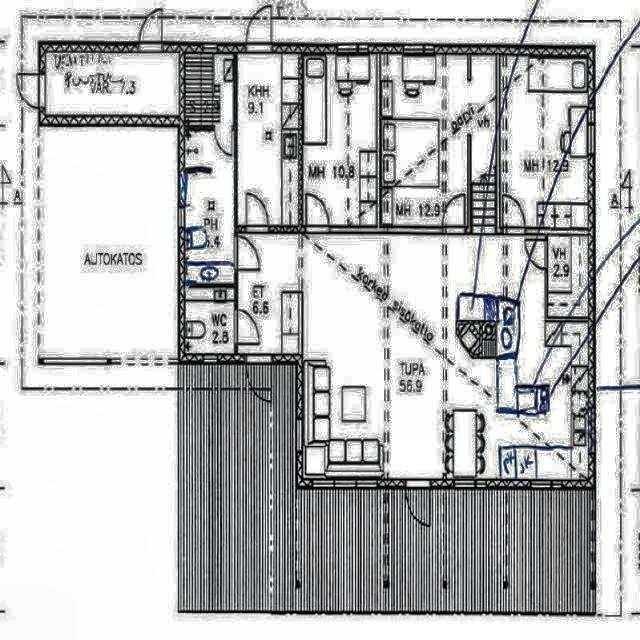room: (500, 56, 587, 227), (304, 55, 376, 225), (238, 54, 298, 225), (46, 53, 179, 115), (185, 132, 234, 282), (185, 54, 234, 125), (548, 236, 588, 317), (185, 289, 233, 353)
